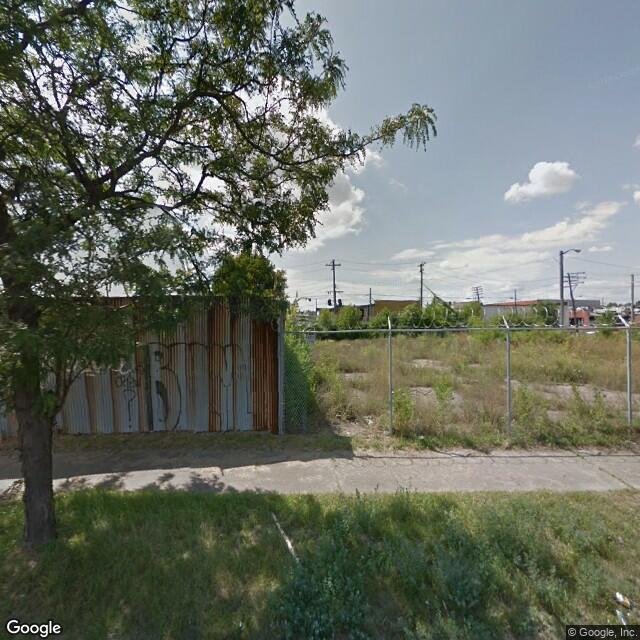litter: (614, 590, 631, 608), (365, 415, 374, 427), (418, 435, 427, 444)
